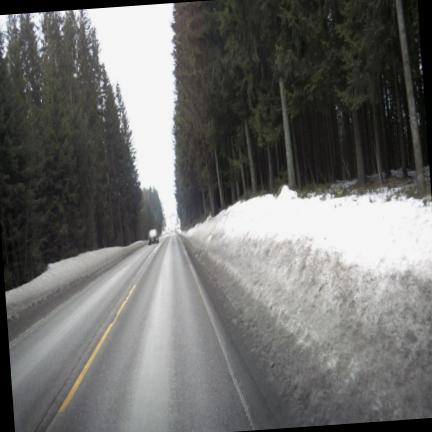Road: (9, 234, 272, 431)
